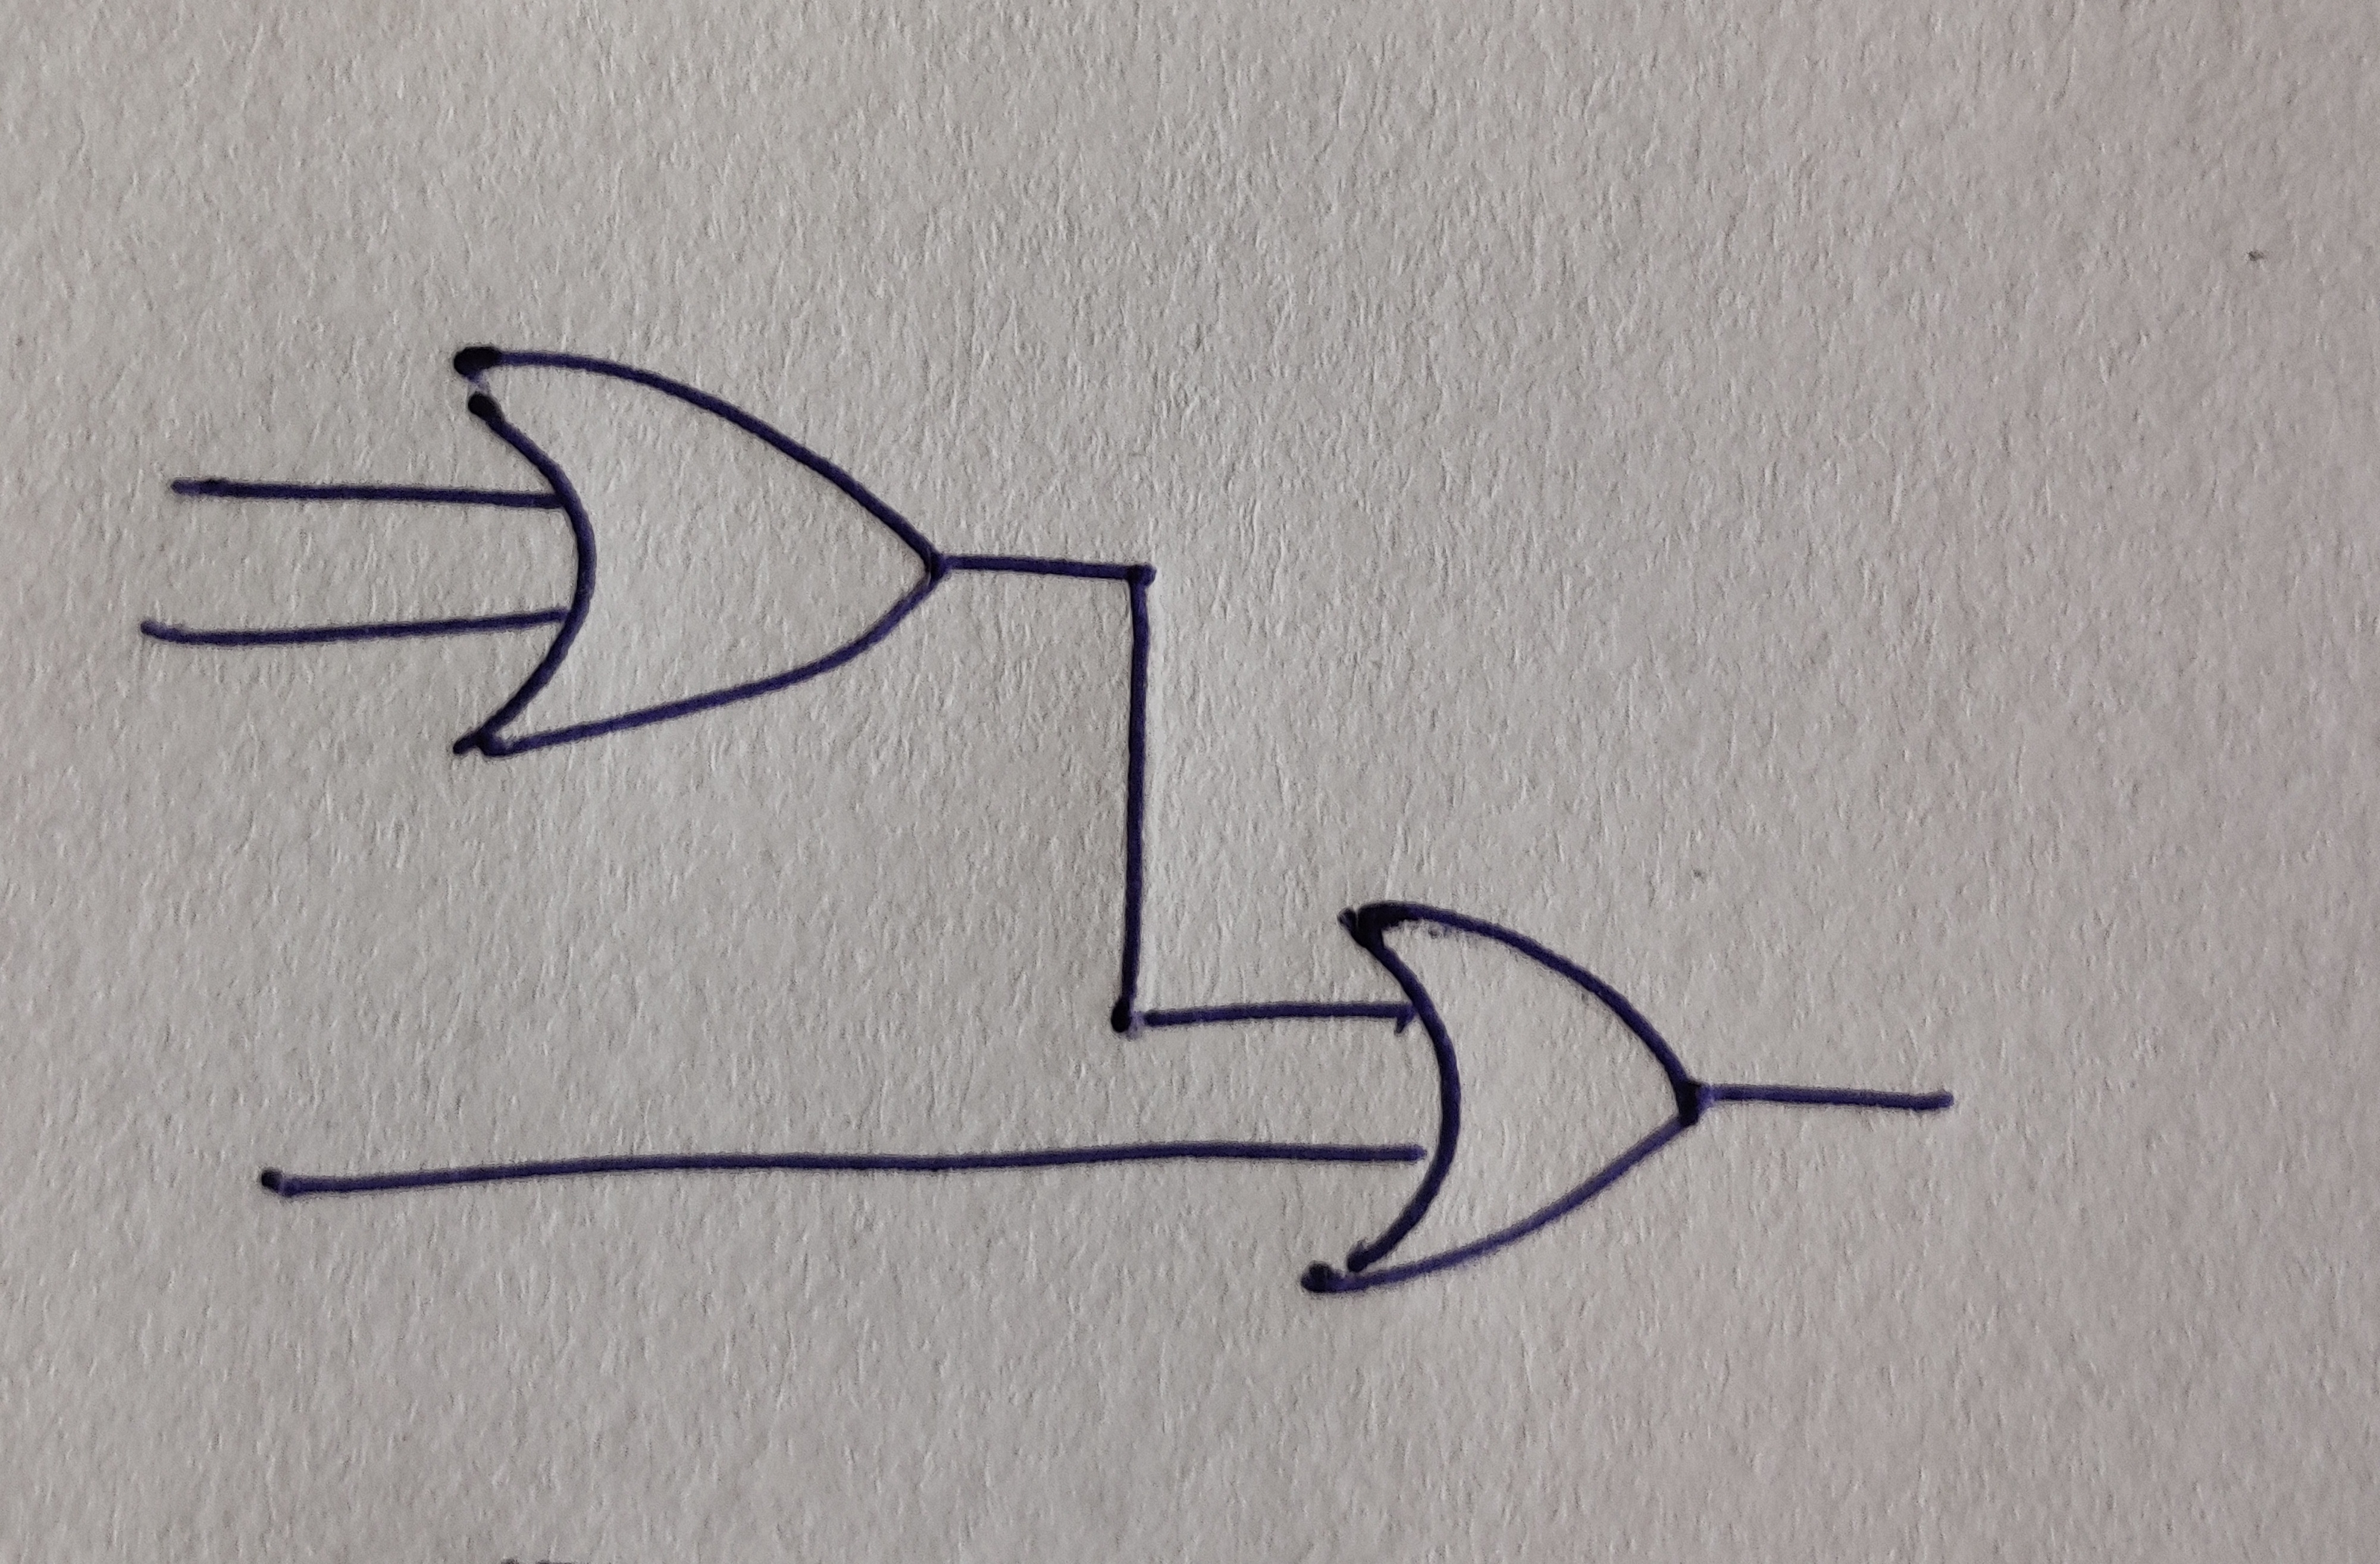or: (452, 349, 949, 761), (1302, 902, 1703, 1297)
